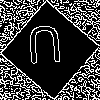U: (25, 25, 65, 73)
